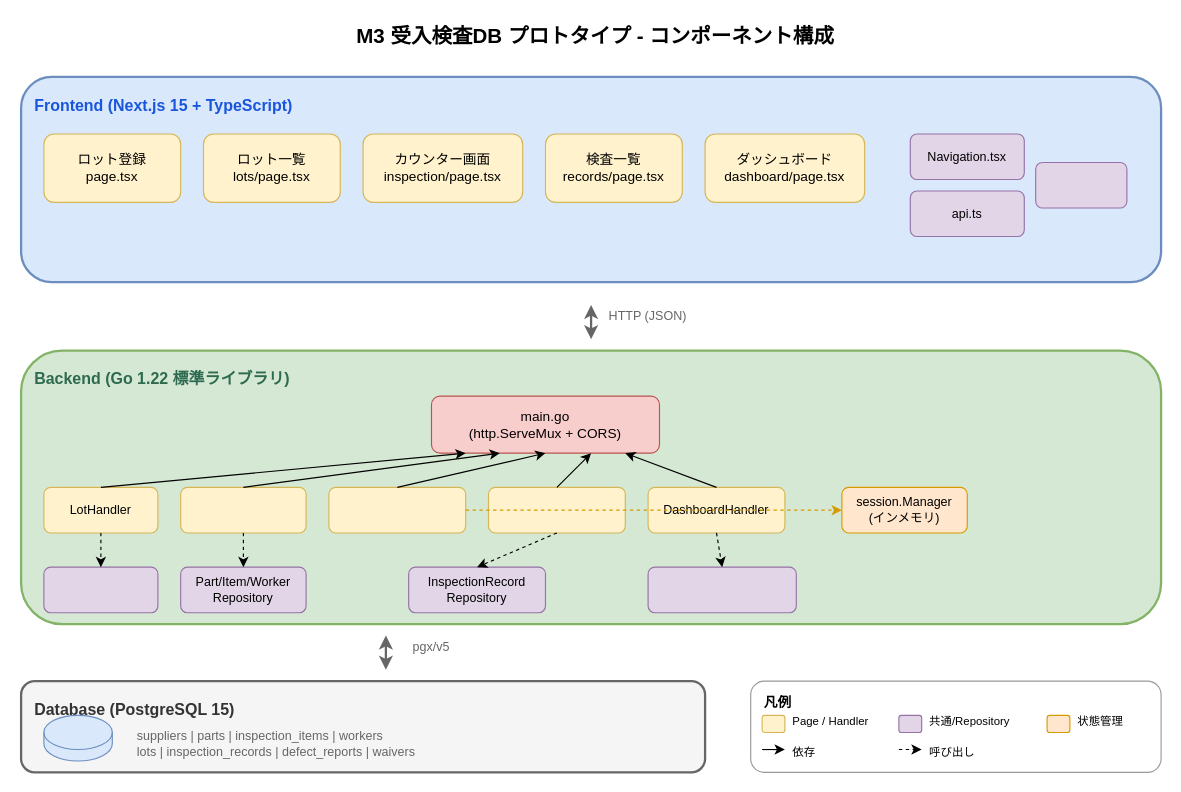
Some shapes in this 1181 by 792 pixel diagram are drawn without their labels. The centre of each missing label's shape, as x and y in pixels:
DashboardRepository: point (721, 589)
InspectionRecord Handler: point (556, 509)
InspectionSession Handler: point (397, 509)
LotRepository: point (100, 589)
MasterHandler: point (243, 509)
types/: point (1081, 184)
